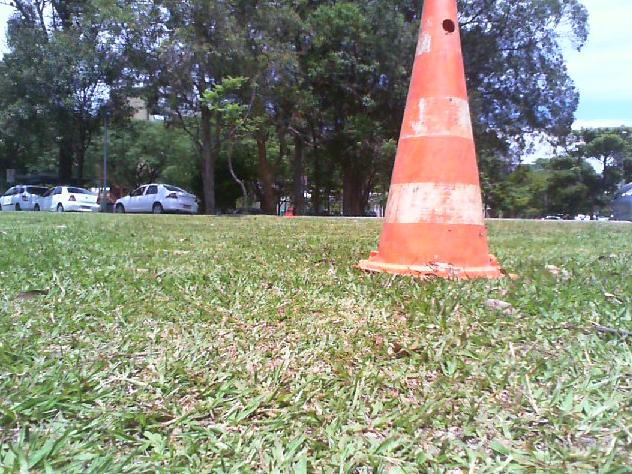0 cone: (358, 0, 499, 278)
